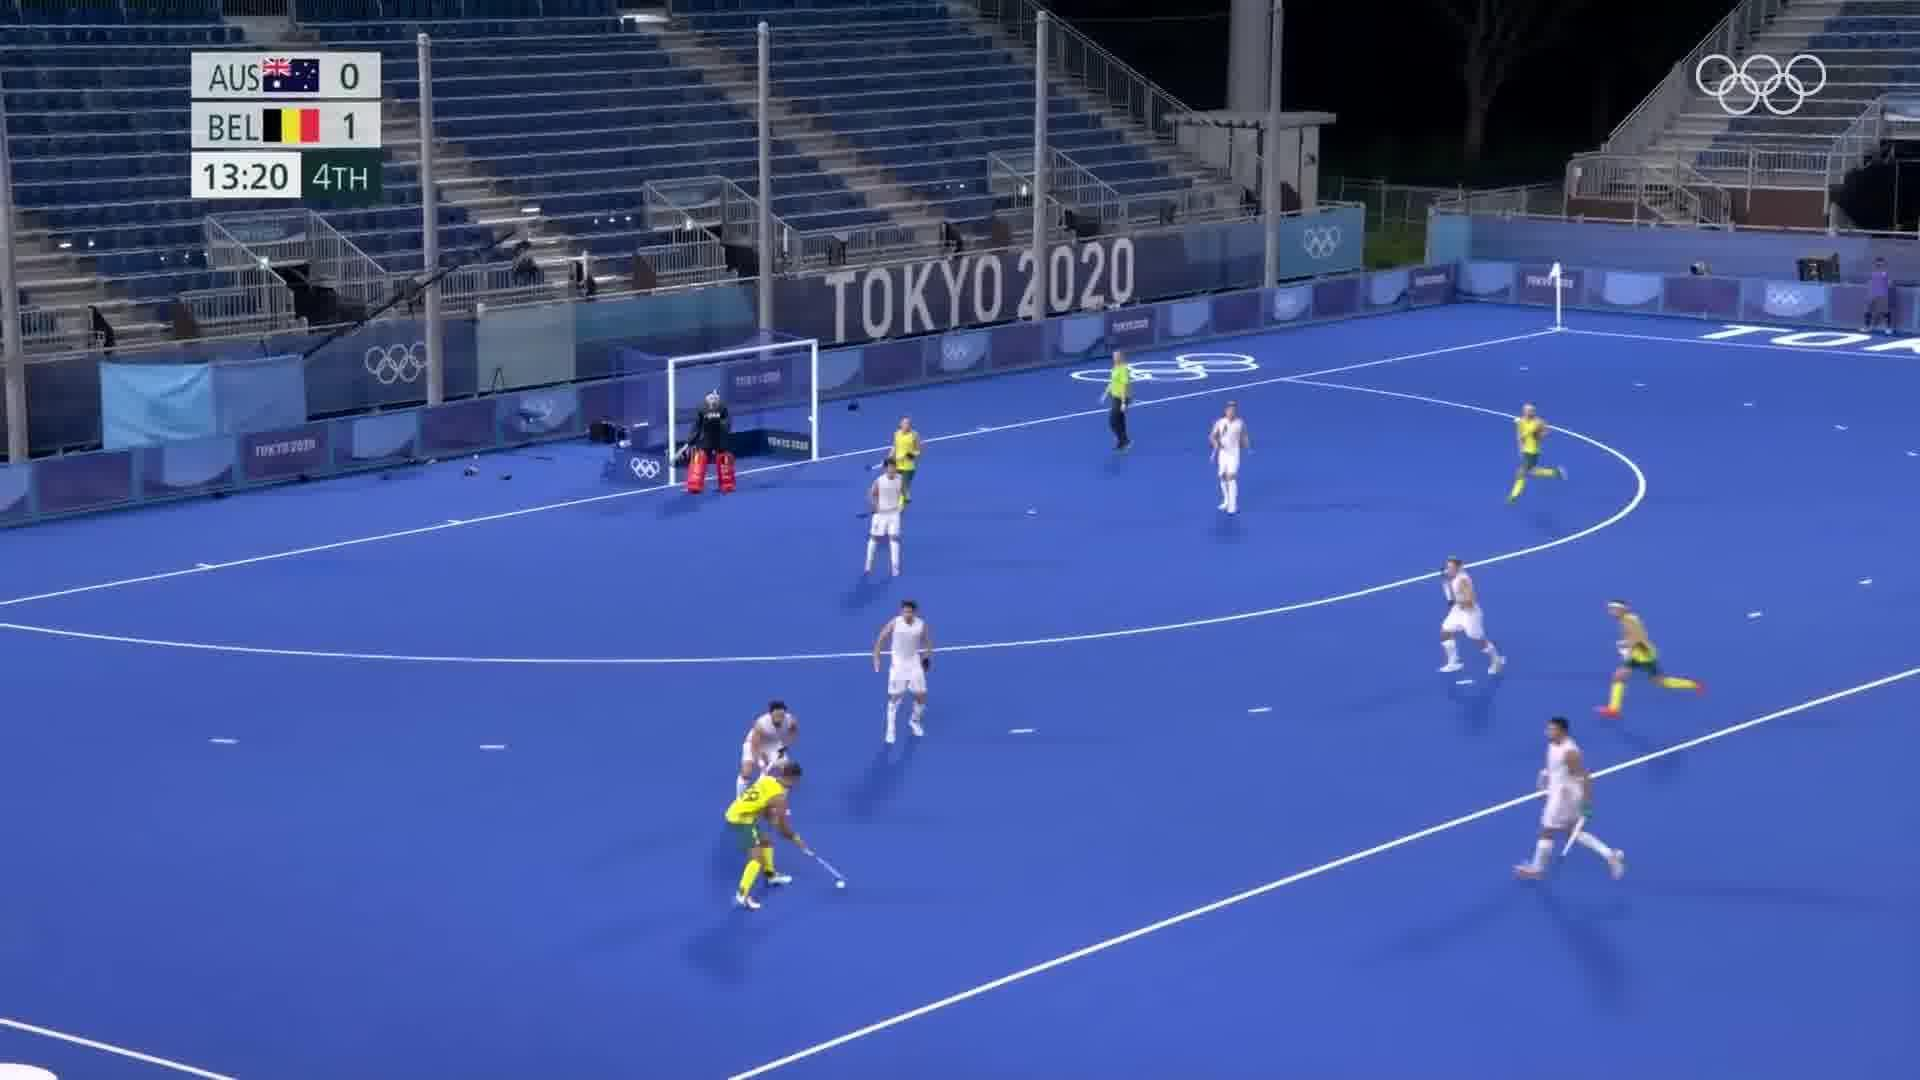ball: (829, 876, 858, 899)
